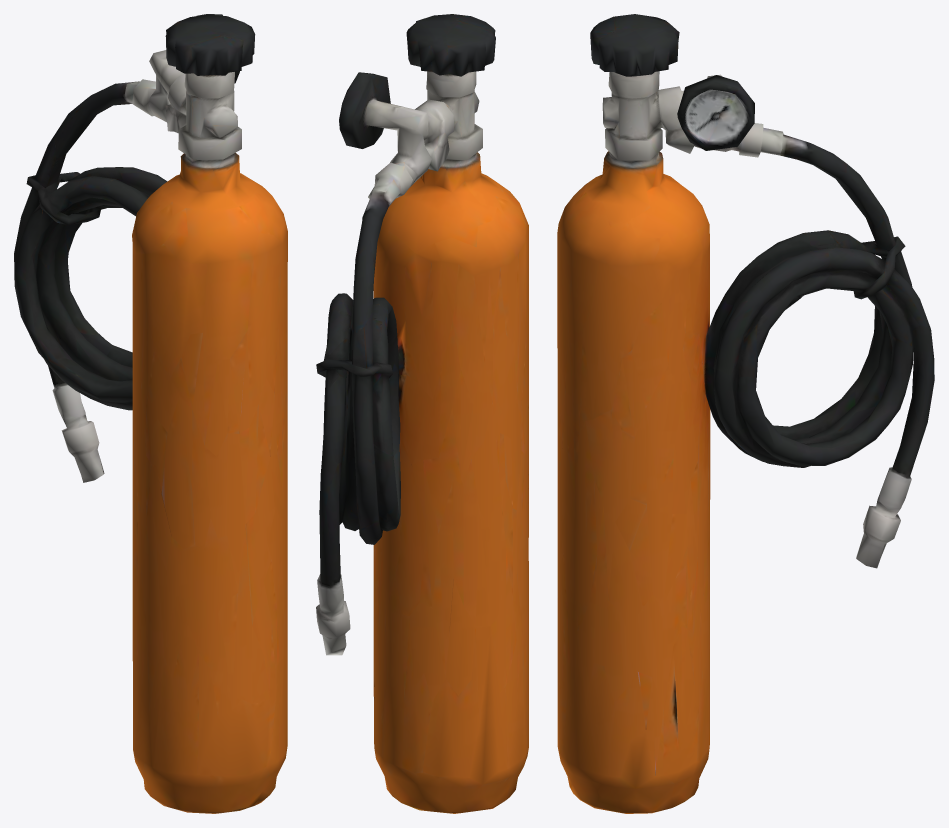
File: prop_oxygen_bottle.glb
3 views of the same model, side by side, from view 1: azimuth 30°, elevation 25°; view 2: azimuth 150°, elevation 25°; view 3: azimuth 270°, elevation 25° (orthographic).
Visible parts, largest first — view 1: tripo_node_e52e1f02-f3a3-496f-9a7e-138c71a03645; view 2: tripo_node_e52e1f02-f3a3-496f-9a7e-138c71a03645; view 3: tripo_node_e52e1f02-f3a3-496f-9a7e-138c71a03645.
Part boxes in pixels (box(x1,y1,x2,y2)): tripo_node_e52e1f02-f3a3-496f-9a7e-138c71a03645: box(14, 14, 287, 813); tripo_node_e52e1f02-f3a3-496f-9a7e-138c71a03645: box(316, 14, 528, 813); tripo_node_e52e1f02-f3a3-496f-9a7e-138c71a03645: box(557, 14, 934, 813).
Bounding box in the file's own units: 0.1879 × 1 × 0.4499.
Materials: 1 (1 with a texture image).
